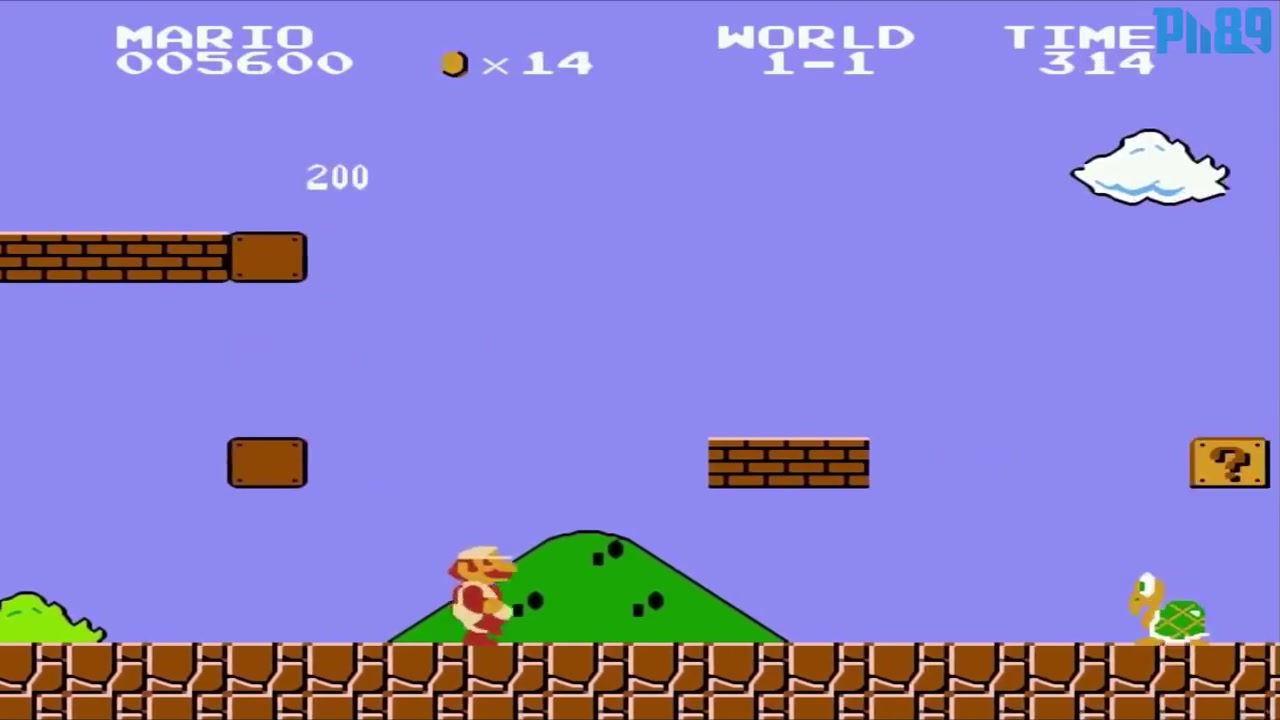mario: (436, 540, 526, 643)
